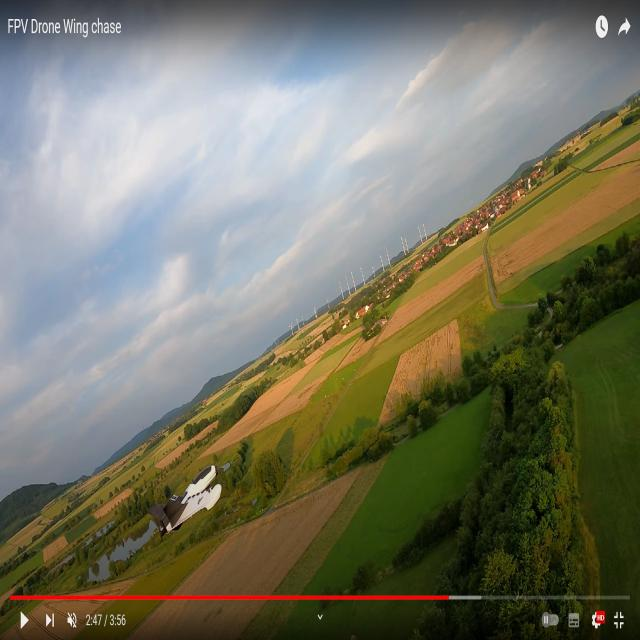iha: (165, 498, 219, 501)
